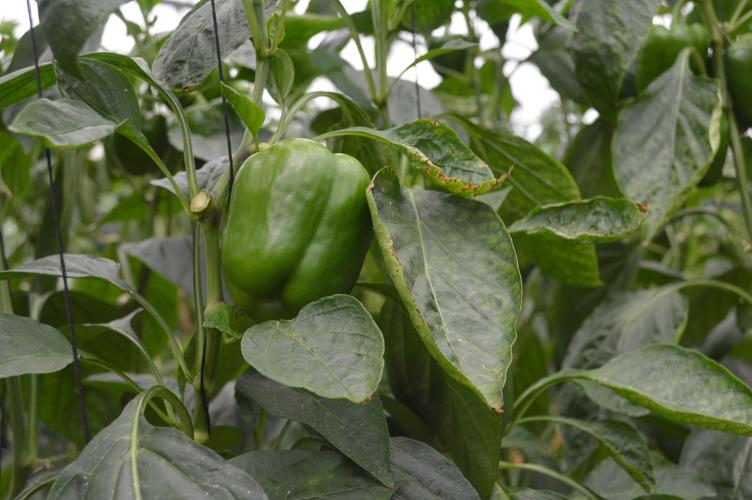BellPepper: (211, 133, 378, 326)
